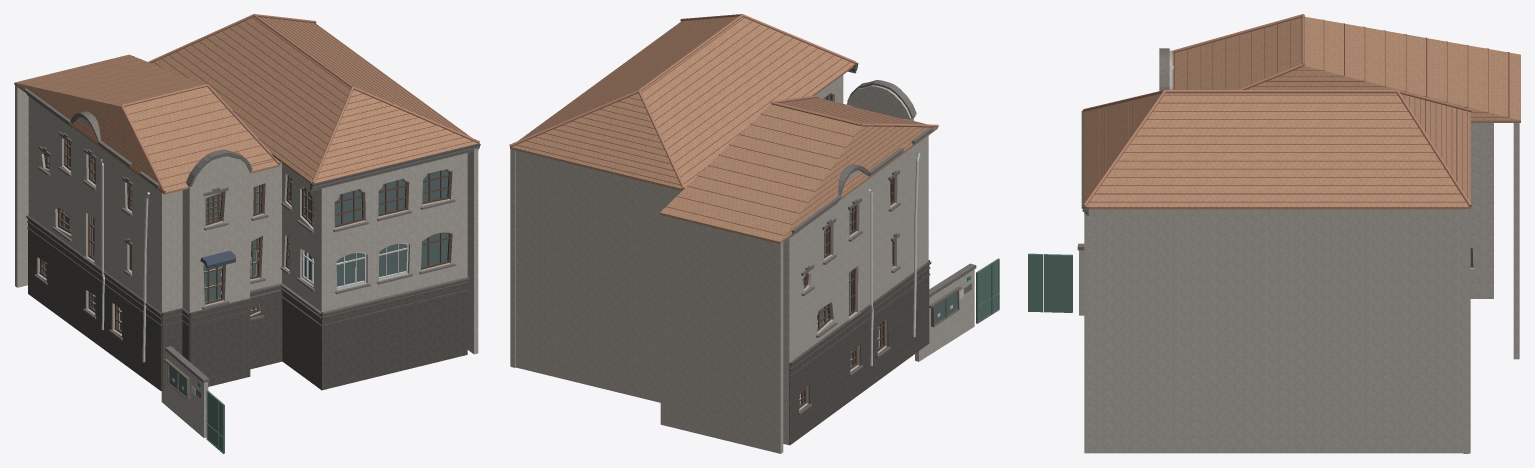
Rendered from full-source.glb.
3 views of the same model, side by side, from view 1: azimuth 30°, elevation 25°; view 2: azimuth 150°, elevation 25°; view 3: azimuth 270°, elevation 25° (orthographic). The views are drawn at different scales.
Parts seen in each view (by area): view 1: 愚园路1112弄4号蒋光鼐旧居; view 2: 愚园路1112弄4号蒋光鼐旧居; view 3: 愚园路1112弄4号蒋光鼐旧居.
Part boxes in pixels (x1,y1,x2,y2): 愚园路1112弄4号蒋光鼐旧居: [14, 14, 480, 453]; 愚园路1112弄4号蒋光鼐旧居: [509, 14, 999, 453]; 愚园路1112弄4号蒋光鼐旧居: [1028, 14, 1520, 453].
Bounding box in the file's own units: 16.48 × 15.62 × 21.18.
15 materials, 5 textured.
